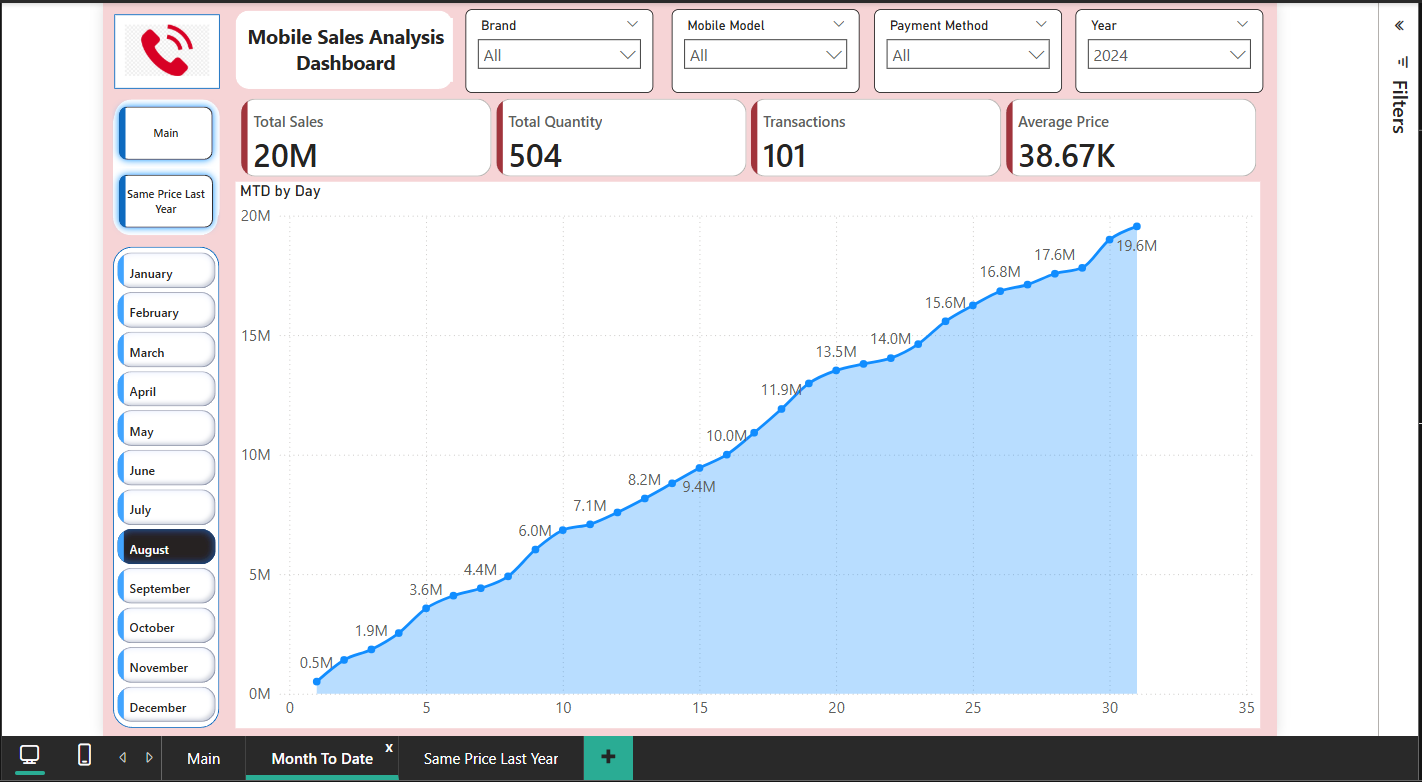

The dashboard page shown, as its layout file describes it:
{"tool":"powerbi","page":{"name":"Month To Date","canvas":[1280,800],"ordinal":1},"visuals":[{"type":"shape","box":[11.9,11.9,115.3,81.4],"z":0},{"type":"image","box":[18.6,16.9,101.7,71.2],"z":1000},{"type":"shape","box":[11.9,105.1,115.3,139],"z":2000},{"type":"cardVisual","fields":{"Data":["Sheet1.Total Sales","Sheet1.Total Quantity","Sheet1.Transactions","Sheet1.Average Price"]},"box":[146,99.4,1120.3,95.7],"z":3000},{"type":"slicer","fields":{"Values":["Sheet1.Brand"]},"box":[394.9,6.8,205.1,91.5],"z":4000},{"type":"slicer","fields":{"Values":["Sheet1.Mobile Model"]},"box":[620.3,6.8,205.1,91.5],"z":5000},{"type":"slicer","fields":{"Values":["Sheet1.Payment Method"]},"box":[840.7,6.8,205.1,91.5],"z":6000},{"type":"slicer","fields":{"Values":["Query1.DATE.Variation.Date Hierarchy.Year","Query1.DATE.Variation.Date Hierarchy.Quarter","Query1.DATE.Variation.Date Hierarchy.Month","Query1.DATE.Variation.Date Hierarchy.Day"]},"box":[1061,6.8,205.1,91.5],"z":7000},{"type":"lineChart","fields":{"Category":["Query1.DATE.Variation.Date Hierarchy.Year","Query1.DATE.Variation.Date Hierarchy.Quarter","Query1.DATE.Variation.Date Hierarchy.Month","Query1.DATE.Variation.Date Hierarchy.Day"],"Y":["Sheet1.MTD"]},"box":[144.5,195,1117.9,595.8],"z":8000},{"type":"shape","box":[10.9,110.4,114.5,143.2],"z":9000},{"type":"pageNavigator","box":[9.5,105,118.6,148.6],"z":10000},{"type":"shape","box":[10.9,265.9,115.9,524.9],"z":11000},{"type":"advancedSlicerVisual","fields":{"Values":["Query1.DATE.Variation.Date Hierarchy.Month"]},"box":[10.9,267.2,117.2,523.5],"z":12000},{"type":"shape","box":[144.9,8.2,236.7,85.7],"z":13000},{"type":"textbox","box":[146.9,16.3,234.7,69.4],"z":14000}]}

Visuals, with their boxes on the page's 1280x800 design canvas (x1, y1, x2, y2). These are canvas units, not pixel positions in the 1422x782 screenshot, which may show the page scaled, cropped or inside an application window:
shape: <region>12, 12, 127, 93</region>
image: <region>19, 17, 120, 88</region>
shape: <region>12, 105, 127, 244</region>
cardVisual - Sheet1.Total Sales x Sheet1.Total Quantity: <region>146, 99, 1266, 195</region>
slicer - Sheet1.Brand: <region>395, 7, 600, 98</region>
slicer - Sheet1.Mobile Model: <region>620, 7, 825, 98</region>
slicer - Sheet1.Payment Method: <region>841, 7, 1046, 98</region>
slicer - Query1.DATE.Variation.Date Hierarchy.Year x Query1.DATE.Variation.Date Hierarchy.Quarter: <region>1061, 7, 1266, 98</region>
lineChart - Query1.DATE.Variation.Date Hierarchy.Year x Query1.DATE.Variation.Date Hierarchy.Quarter: <region>144, 195, 1262, 791</region>
shape: <region>11, 110, 125, 254</region>
pageNavigator: <region>10, 105, 128, 254</region>
shape: <region>11, 266, 127, 791</region>
advancedSlicerVisual - Query1.DATE.Variation.Date Hierarchy.Month: <region>11, 267, 128, 791</region>
shape: <region>145, 8, 382, 94</region>
textbox: <region>147, 16, 382, 86</region>
